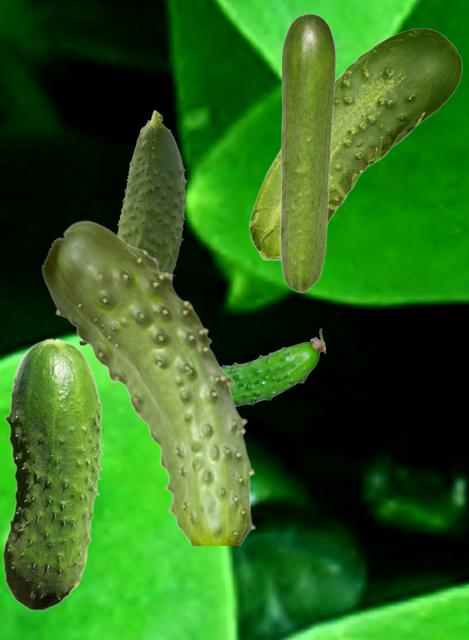cucumber: (41, 220, 255, 544), (248, 28, 461, 261), (2, 337, 103, 610), (79, 110, 186, 344), (279, 13, 335, 292), (222, 328, 324, 406)
